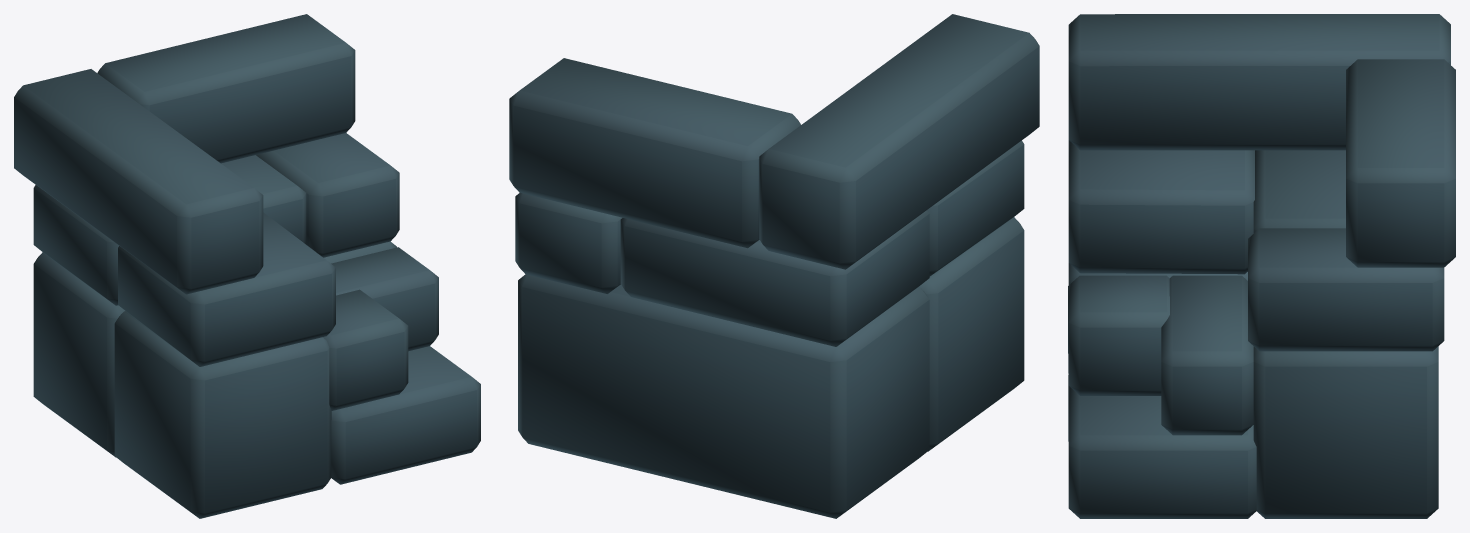
The model's file is stair_corner_concave_hue_3.fbx.
3 views of the same model, side by side, from view 1: azimuth 30°, elevation 25°; view 2: azimuth 150°, elevation 25°; view 3: azimuth 270°, elevation 25° (orthographic). The views are drawn at different scales.
Visible parts, largest first — view 1: stair_corner_concave_hue_3; view 2: stair_corner_concave_hue_3; view 3: stair_corner_concave_hue_3.
Boxes of the visible parts, bbox=[...] form: stair_corner_concave_hue_3: bbox=[14, 14, 480, 518]; stair_corner_concave_hue_3: bbox=[509, 14, 1039, 518]; stair_corner_concave_hue_3: bbox=[1068, 14, 1455, 518].
Bounding box in the file's own units: 105 × 105 × 105.
